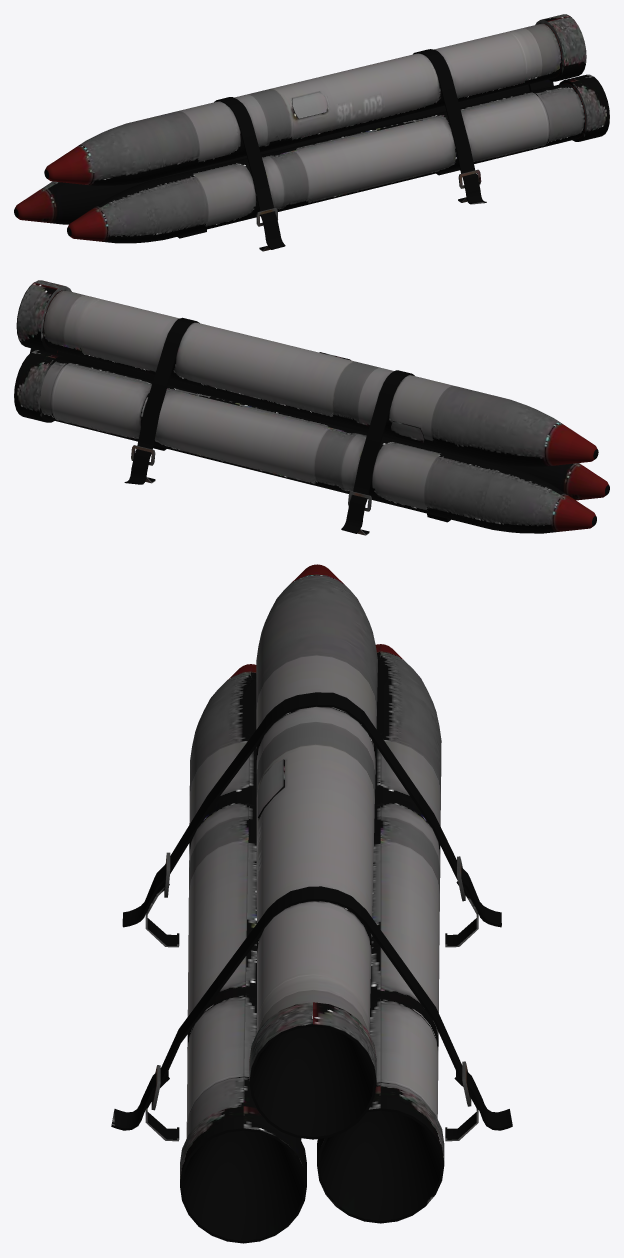
3 renders of one model, top to bottom at view 1: azimuth 30°, elevation 25°; view 2: azimuth 150°, elevation 25°; view 3: azimuth 270°, elevation 25°, orthographic. The views are drawn at different scales.
Visible parts, largest first — view 1: body0_model0_lod0_mesh0; view 2: body0_model0_lod0_mesh0; view 3: body0_model0_lod0_mesh0.
Boxes of the visible parts, x1=… form: body0_model0_lod0_mesh0: x1=14, y1=14, x2=609, y2=251; body0_model0_lod0_mesh0: x1=14, y1=280, x2=609, y2=535; body0_model0_lod0_mesh0: x1=111, y1=564, x2=512, y2=1243.
Size of the model in its own units: 474 by 104 by 152.
Materials: 1 (1 with a texture image).
